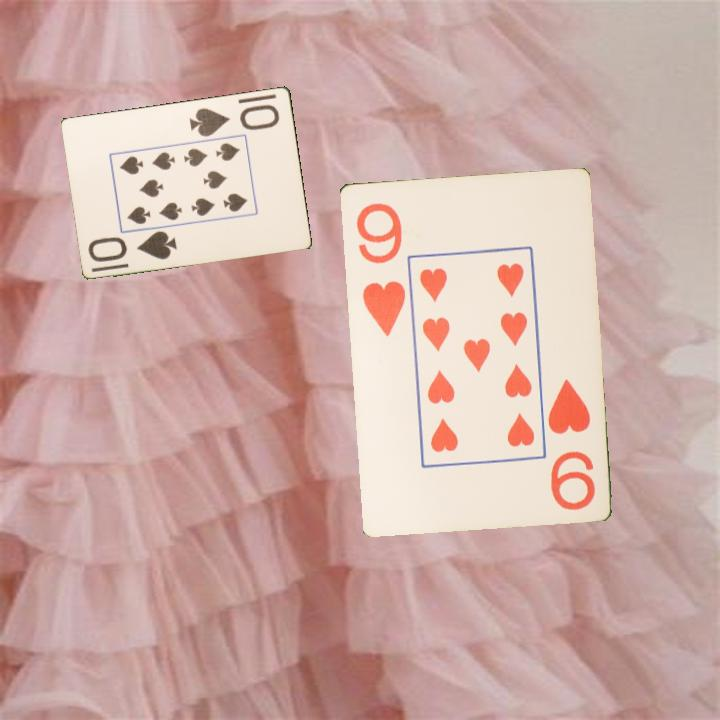10s: (186, 100, 283, 139), (85, 227, 180, 265)
9h: (352, 198, 408, 339), (543, 375, 598, 513)
